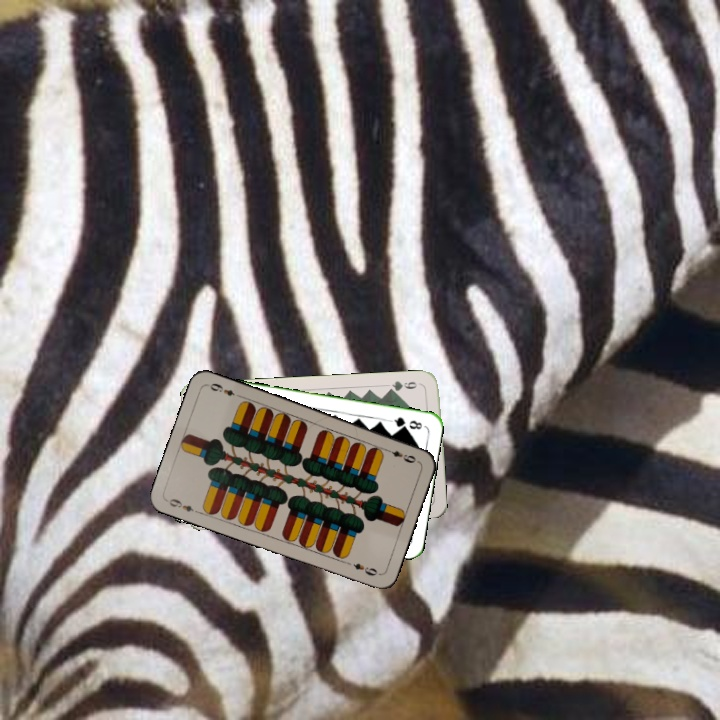E9: (381, 445, 421, 466), (163, 495, 202, 516)
G8: (386, 413, 425, 432)
G9: (384, 377, 424, 394)
